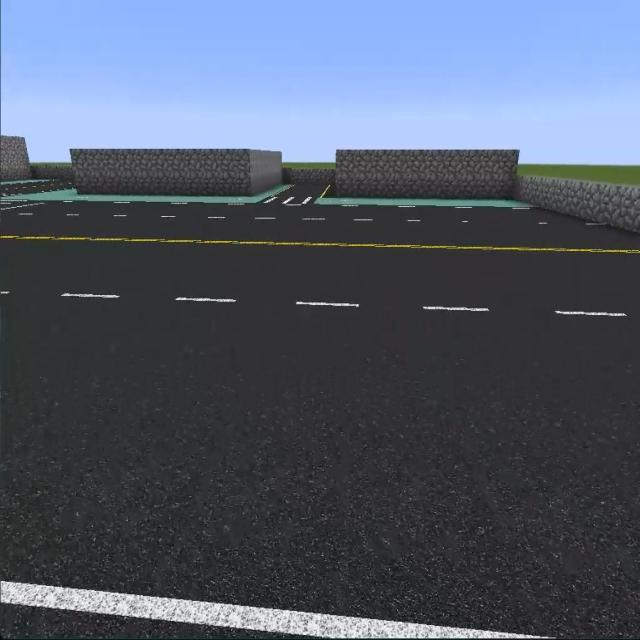crosswalk: (263, 194, 313, 207)
road: (10, 203, 634, 637)
sidewalk: (0, 185, 292, 203), (314, 197, 529, 208)
